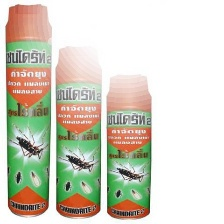aerosol_cans: (3, 2, 55, 221), (50, 41, 104, 220), (102, 71, 154, 223)
